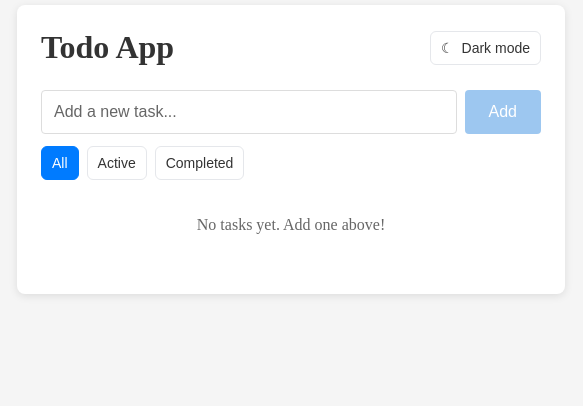
it: clears completed todos but keeps the open ones
Type "water the plants" into the field with placeholder "Add a new task..." at point(249, 112), box [41,90,456,134]
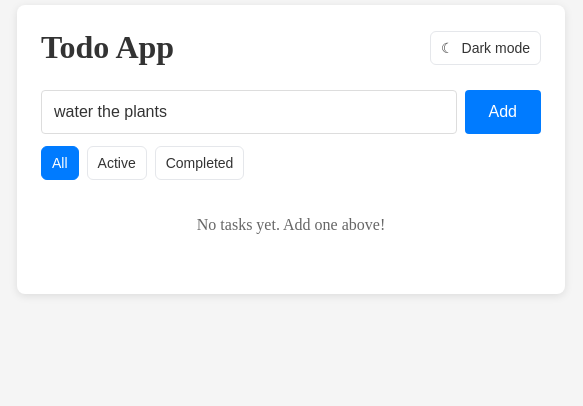
Submit the form with placeholder "Add a new task", box [41,90,541,134]
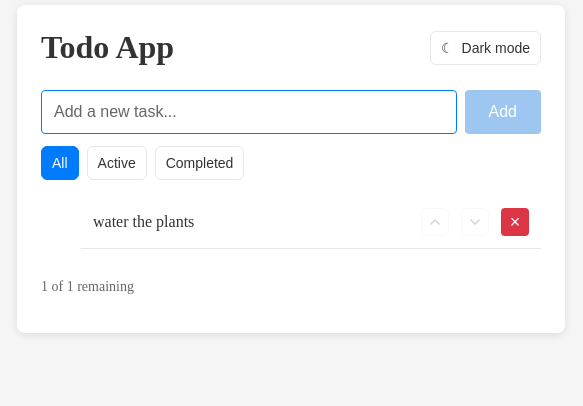
Type "take out the bins" into the field with placeholder "Add a new task..." at point(249, 112), box [41,90,456,134]
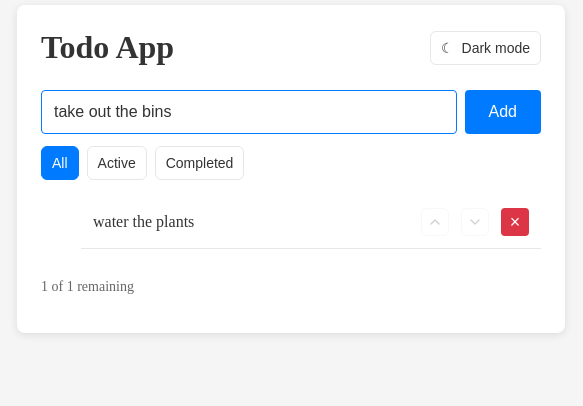
Submit the form with placeholder "Add a new task", box [41,90,541,134]
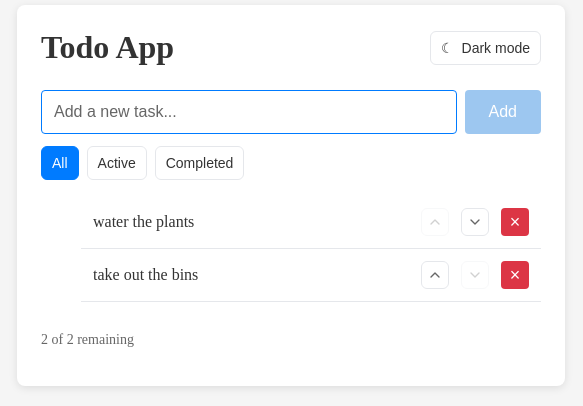
Click the text "water the plants" at point(144, 222), box [93,213,194,230]
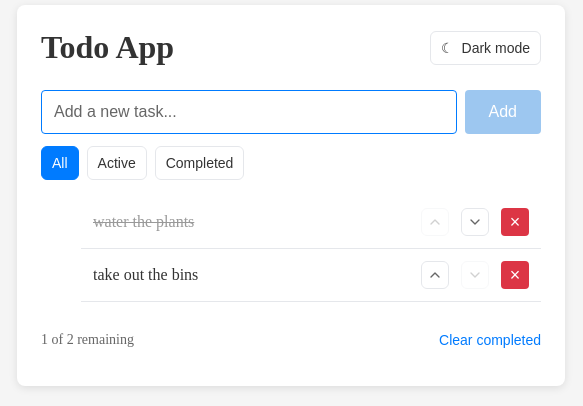
Click the button "Clear completed" at point(490, 340), box [439,332,541,348]
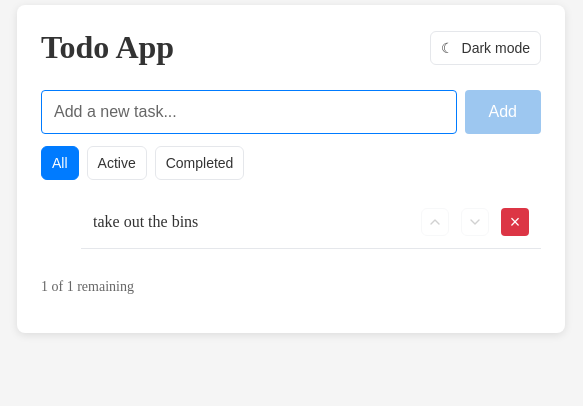
Check: the text "take out the bins" is shown, box [93,213,198,230]
Check: the text "water the plants" is gone
